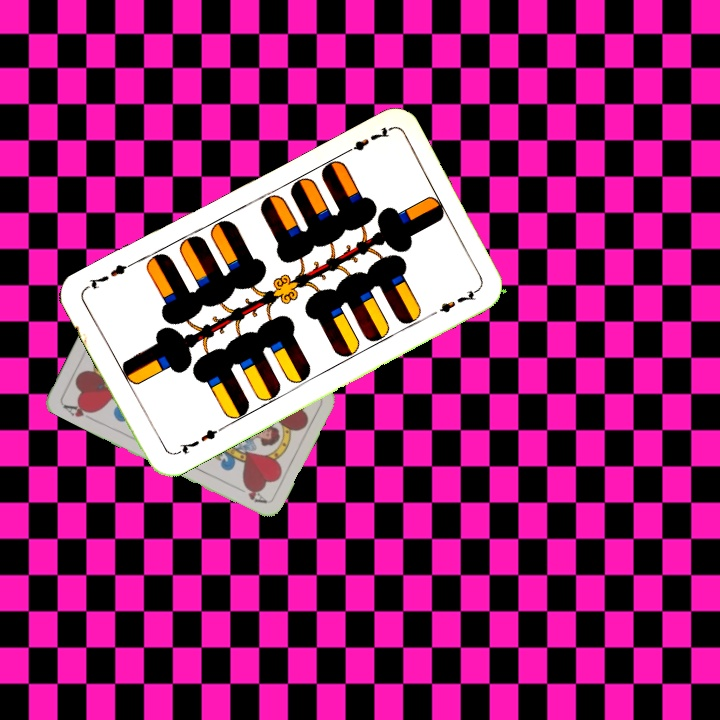E7: (170, 423, 225, 458), (338, 123, 393, 158)
HA: (59, 399, 98, 423)
